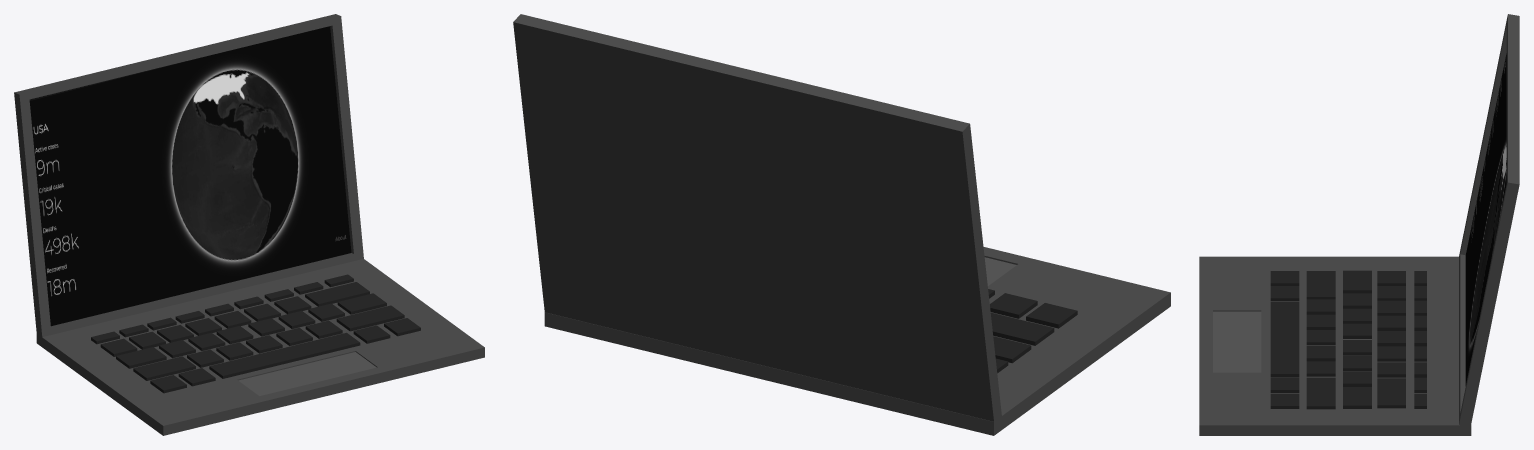
The model's file is covid-macbook.glb.
3 renders of one model, left to right at view 1: azimuth 30°, elevation 25°; view 2: azimuth 150°, elevation 25°; view 3: azimuth 270°, elevation 25°, orthographic. The views are drawn at different scales.
Parts seen in each view (by area): view 1: Cube.001, Cube, Cube.042, Cube.037, Cube.019, Cube.029, Cube.020, Cube.028; view 2: Cube.001, Cube, Cube.029, Cube.038, Cube.039, Cube.020; view 3: Cube, Cube.001, Cube.042, Cube.037, Cube.019, Cube.029, Cube.020, Cube.028, Cube.032, Cube.036, Cube.033, Cube.034 (+18 smaller).
Boxes of the visible parts, x1,y1,x2,y2 form: Cube.001: (14,14,363,337); Cube: (36,259,484,435); Cube.042: (209,332,360,378); Cube.037: (336,305,404,331); Cube.019: (305,282,369,306); Cube.029: (133,356,195,380); Cube.020: (116,347,166,368); Cube.028: (337,293,386,314); Cube.001: (513,14,1001,423); Cube: (544,247,1170,435); Cube.029: (990,312,1054,345); Cube.038: (1026,303,1077,328); Cube.039: (990,293,1037,318); Cube.020: (993,336,1031,363); Cube: (1199,256,1471,435); Cube.001: (1459,14,1519,426); Cube.042: (1270,302,1299,377); Cube.037: (1306,377,1335,409); Cube.019: (1377,378,1405,408); Cube.029: (1306,271,1335,299); Cube.020: (1343,270,1371,293); Cube.028: (1343,387,1371,408); Cube.032: (1306,299,1335,314); Cube.036: (1306,361,1335,376); Cube.033: (1306,314,1335,329); Cube.034: (1306,330,1335,345).
Bounding box in the file's own units: 5.33 × 3.74 × 4.28.
4 materials, 1 textured.
